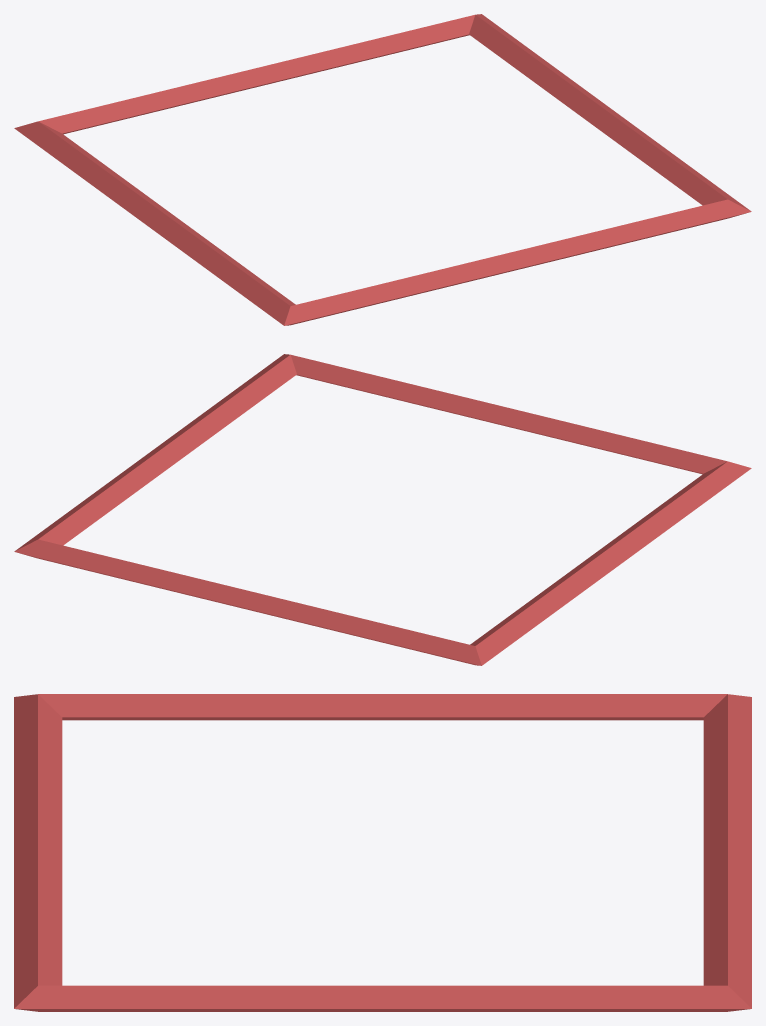
Rendered from square.fbx.
The picture shows the model from 3 angles, top to bottom: view 1: azimuth 30°, elevation 25°; view 2: azimuth 150°, elevation 25°; view 3: azimuth 270°, elevation 25°; orthographic projection. The views are drawn at different scales.
Visible parts, largest first — view 1: square; view 2: square; view 3: square.
Boxes of the visible parts, x1=… form: square: x1=14, y1=14, x2=751, y2=325; square: x1=14, y1=354, x2=751, y2=665; square: x1=14, y1=694, x2=751, y2=1011.
Size of the model in its own units: 1.78 by 0.0697 by 1.78.
